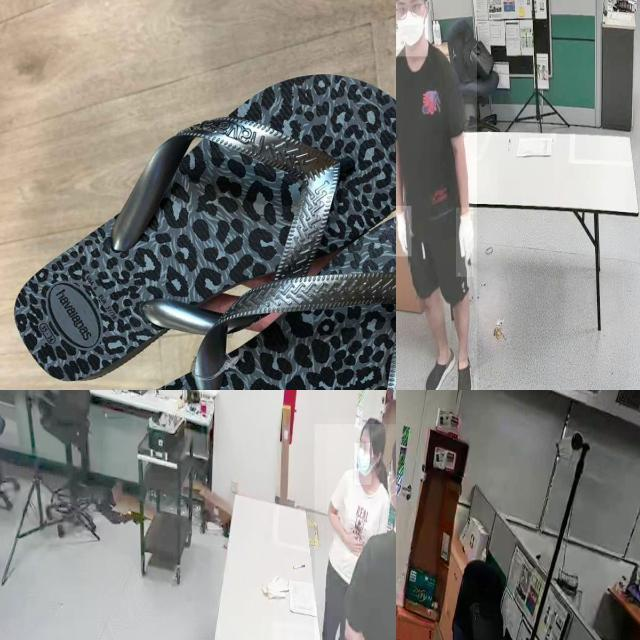Sandals: (0, 54, 396, 390)
face_mask: (396, 0, 428, 56), (354, 443, 372, 485)
glasses: (396, 0, 422, 21)
hand_glove: (456, 208, 474, 278), (396, 206, 412, 257)
hand_noglove: (344, 531, 363, 557)
head_nohelmet: (361, 413, 386, 435)
person: (396, 0, 477, 390), (314, 424, 396, 640), (327, 418, 396, 640)
shoes: (423, 338, 457, 390), (452, 343, 471, 390)
